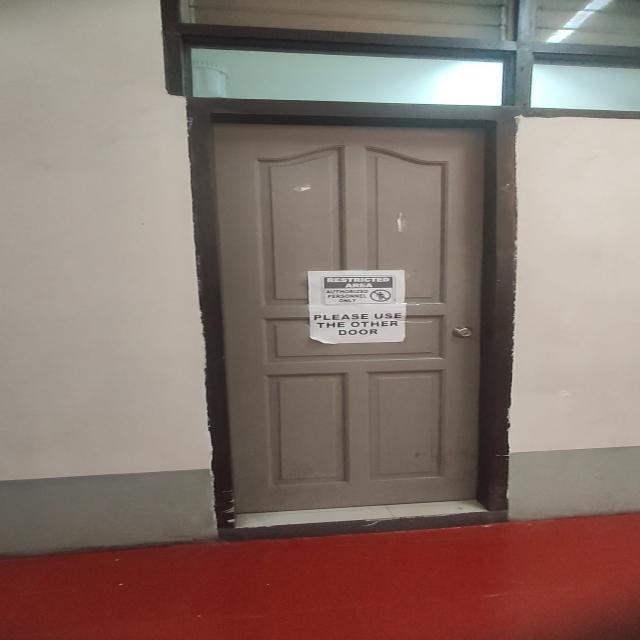door: (180, 97, 516, 551)
